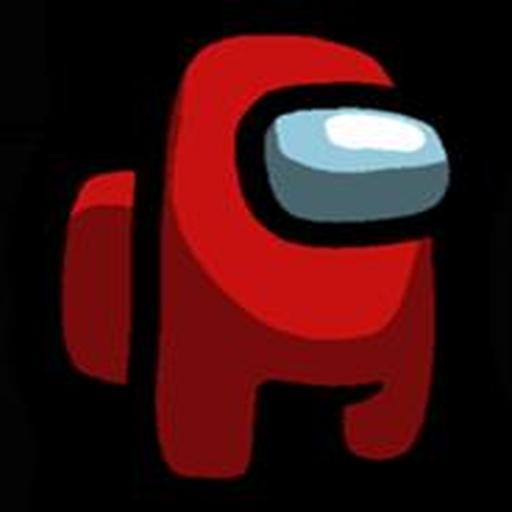Crewmate: (58, 32, 469, 486)
